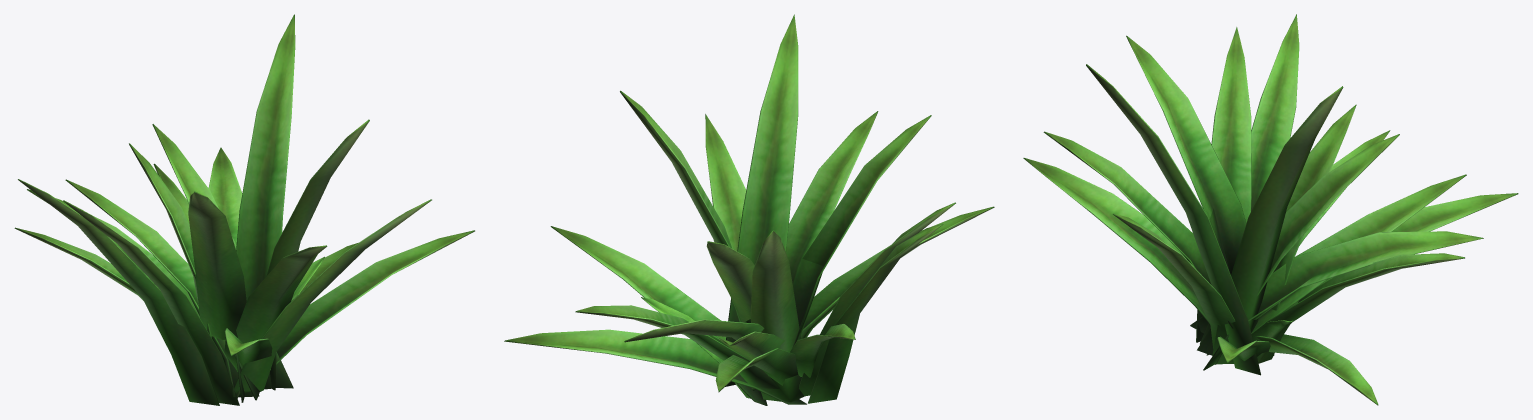
The model's file is alovera.glb.
3 views of the same model, side by side, from view 1: azimuth 30°, elevation 25°; view 2: azimuth 150°, elevation 25°; view 3: azimuth 270°, elevation 25° (orthographic). The views are drawn at different scales.
Visible parts, largest first — view 1: node_id34; view 2: node_id34; view 3: node_id34.
Part boxes in pixels (bbox=[...]): node_id34: bbox=[14, 14, 474, 405]; node_id34: bbox=[504, 14, 994, 405]; node_id34: bbox=[1023, 14, 1518, 405].
Size of the model in its own units: 0.512 by 0.3586 by 0.5005.
Materials: 1 (1 with a texture image).
